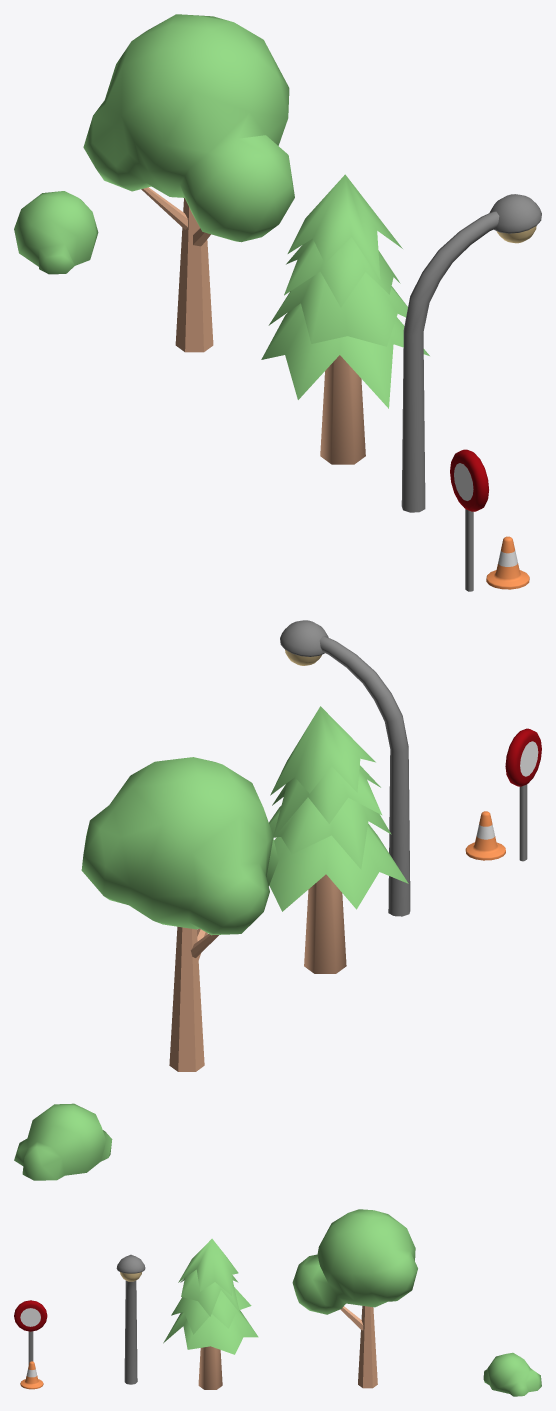
File: smooth_city_pack.fbx
3 views of the same model, one above another, from view 1: azimuth 30°, elevation 25°; view 2: azimuth 150°, elevation 25°; view 3: azimuth 270°, elevation 25° (orthographic). The views are drawn at different scales.
Parts seen in each view (by area): view 1: tree_2, tree_1, Cylinder.001, Sphere, rad_sign, Sphere.001, Cylinder; view 2: tree_2, tree_1, Cylinder.001, Sphere, rad_sign, Sphere.001, Cylinder; view 3: tree_2, tree_1, Sphere, Cylinder.001, rad_sign, Sphere.001, Cylinder.
Part boxes in pixels (<box>): tree_2: <box>83,14,294,352</box>; tree_1: <box>261,174,429,464</box>; Cylinder.001: <box>401,211,499,512</box>; Sphere: <box>14,191,98,274</box>; rad_sign: <box>450,449,488,591</box>; Sphere.001: <box>489,194,541,243</box>; Cylinder: <box>486,536,529,589</box>; tree_2: <box>81,757,278,1071</box>; tree_1: <box>269,706,408,973</box>; Cylinder.001: <box>319,636,410,916</box>; Sphere: <box>14,1103,112,1180</box>; rad_sign: <box>505,728,541,861</box>; Sphere.001: <box>280,620,328,665</box>; Cylinder: <box>465,811,505,860</box>; tree_2: <box>292,1209,417,1388</box>; tree_1: <box>163,1238,258,1389</box>; Sphere: <box>483,1352,541,1396</box>; Cylinder.001: <box>124,1254,137,1384</box>; rad_sign: <box>14,1300,47,1364</box>; Sphere.001: <box>116,1255,145,1281</box>; Cylinder: <box>20,1361,43,1389</box>.
Bounding box in the file's own units: 971 × 1432 × 3947.
